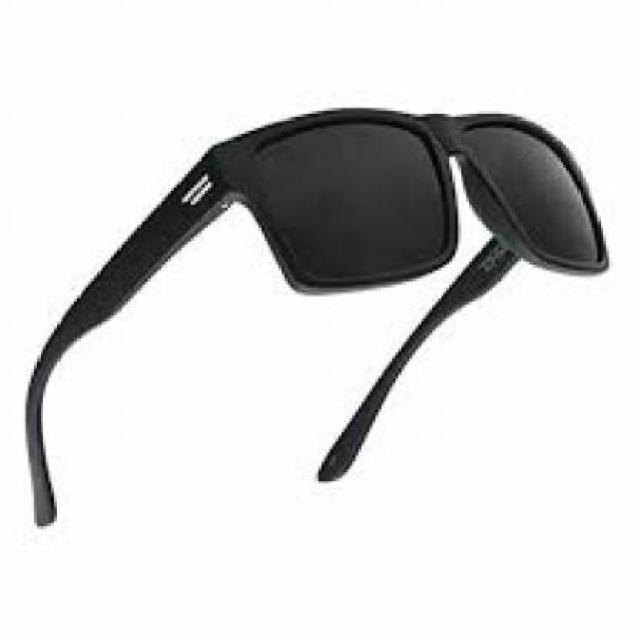gozluk: (186, 69, 614, 336)
